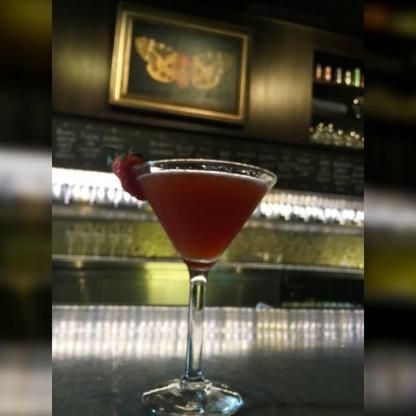Picture-frame: (110, 5, 252, 126)
